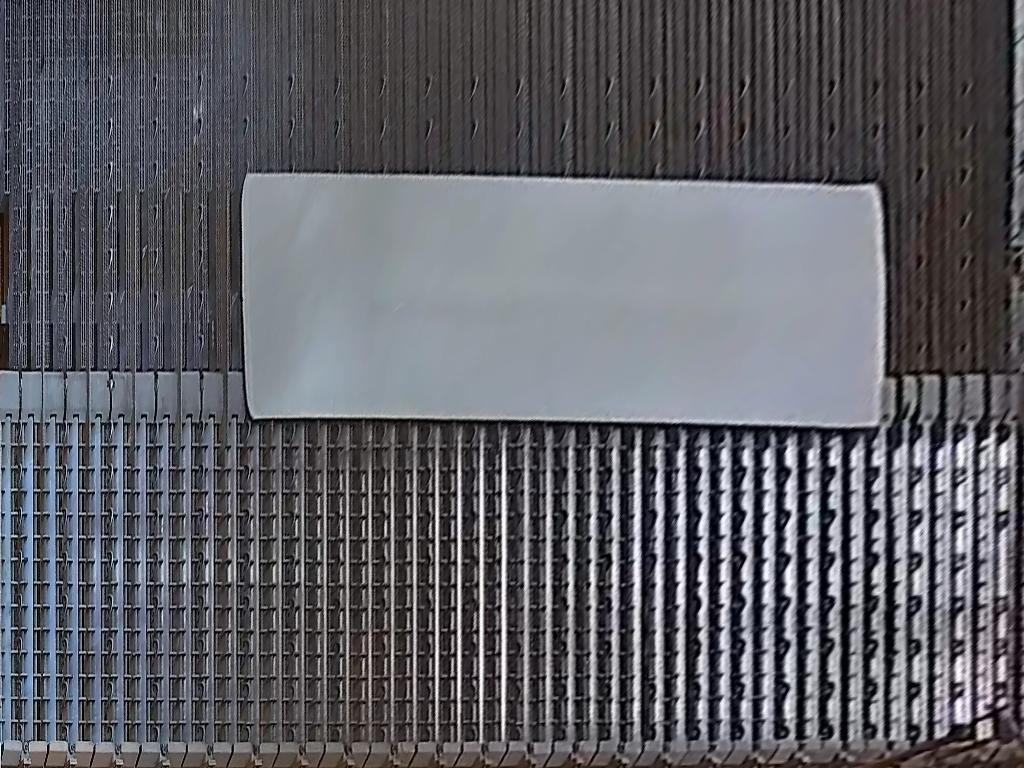steel: (239, 172, 887, 429)
